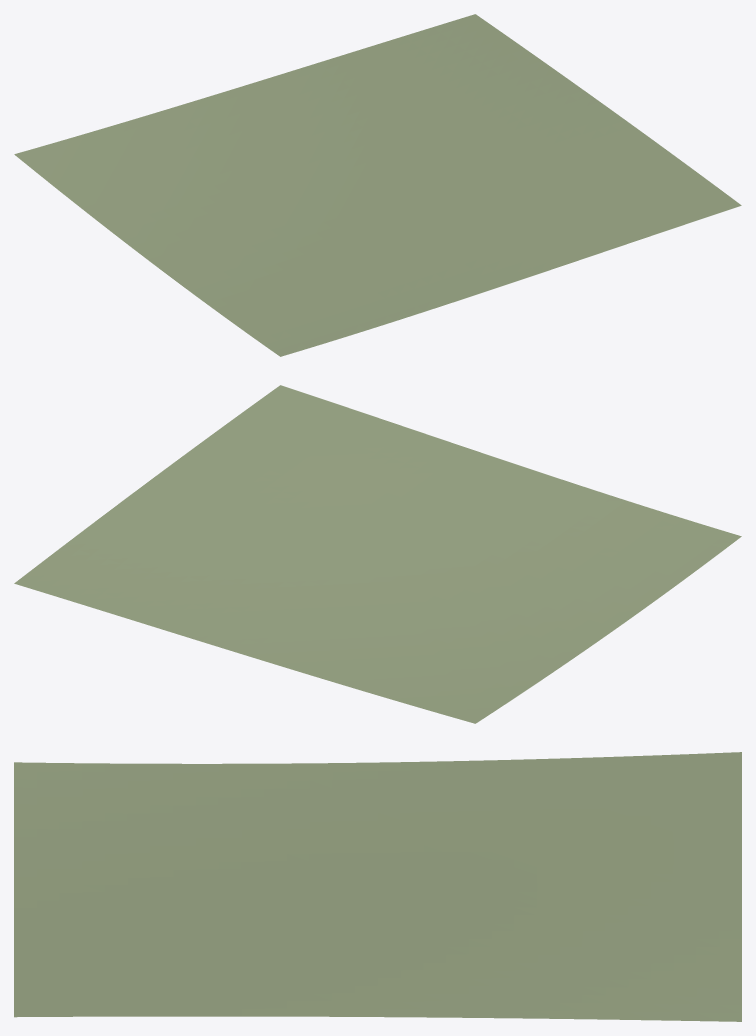
File: canyon-4-5.glb
3 views of the same model, one above another, from view 1: azimuth 30°, elevation 25°; view 2: azimuth 150°, elevation 25°; view 3: azimuth 270°, elevation 25° (orthographic). The views are drawn at different scales.
Visible parts, largest first — view 1: canyon-4-5; view 2: canyon-4-5; view 3: canyon-4-5.
Boxes of the visible parts, box(x1,y1,x2,y2) form: canyon-4-5: box(14, 14, 741, 356); canyon-4-5: box(14, 385, 741, 723); canyon-4-5: box(14, 752, 741, 1021).
Bounding box in the file's own units: 128 × 10.67 × 128.
